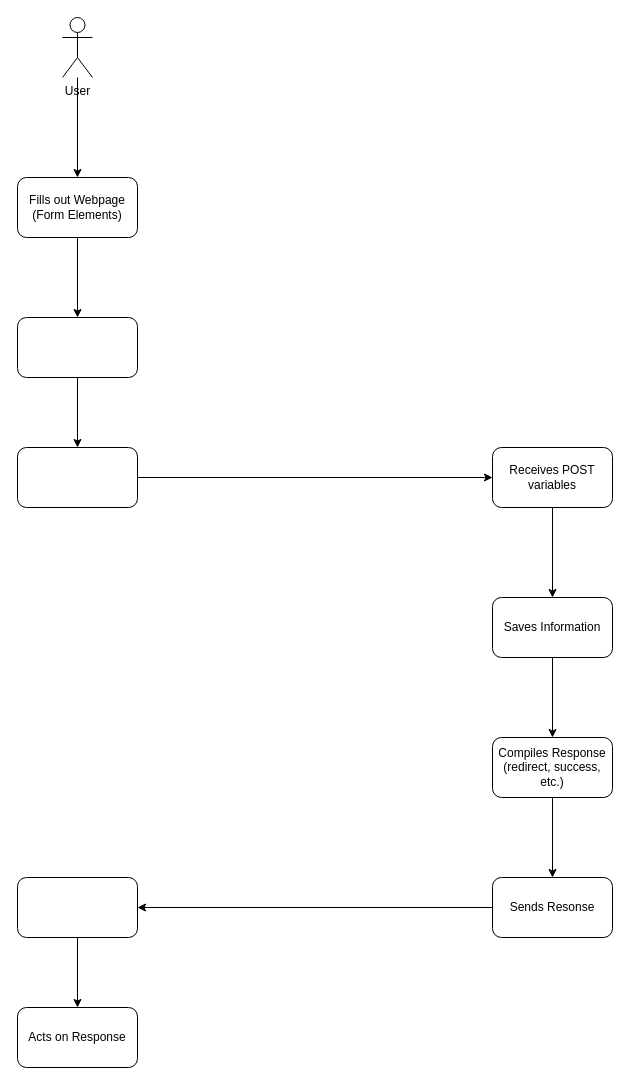
This 630x1085 diagram has some shape labels left out. The centre of each missing label's shape, as x and y in pixels:
Hits Submit (or Javascript actions): point (77, 347)
POST Action Takes Effect: point (77, 477)
Receives Response: point (77, 907)
